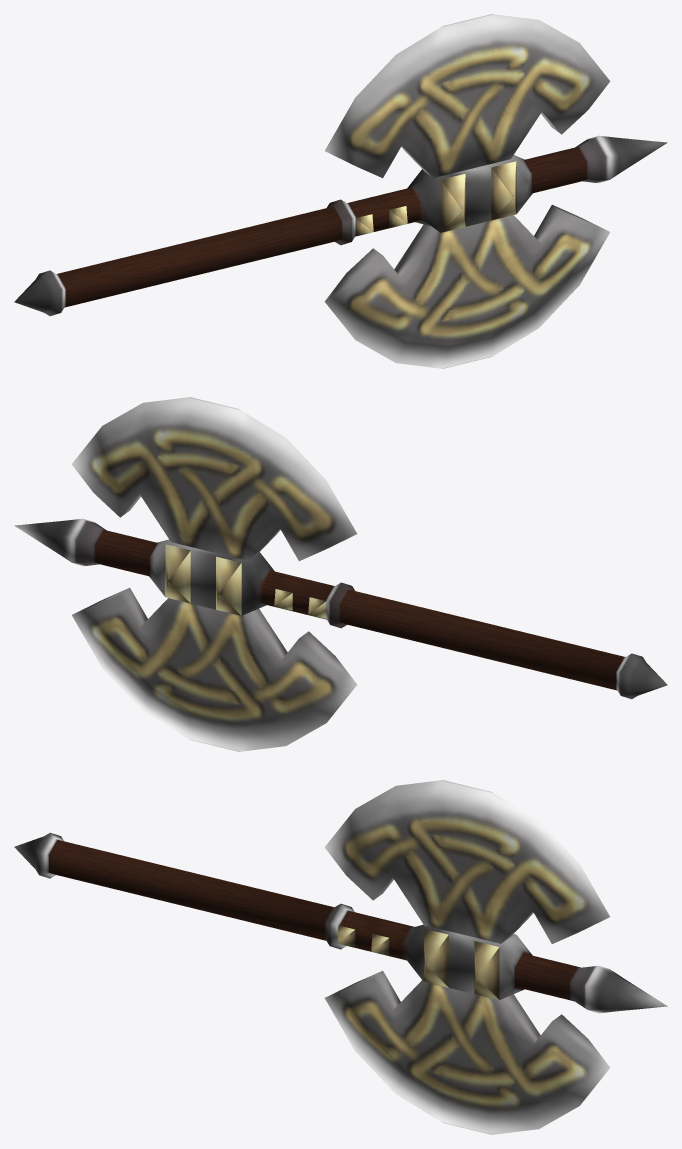
3 views of the same model, one above another, from view 1: azimuth 30°, elevation 25°; view 2: azimuth 150°, elevation 25°; view 3: azimuth 330°, elevation 25° (orthographic).
Parts seen in each view (by area): view 1: IT181_DMSPRITEDEF_node; view 2: IT181_DMSPRITEDEF_node; view 3: IT181_DMSPRITEDEF_node.
Boxes of the visible parts, box(x1,y1,x2,y2) form: IT181_DMSPRITEDEF_node: box(14, 14, 667, 368); IT181_DMSPRITEDEF_node: box(14, 397, 667, 751); IT181_DMSPRITEDEF_node: box(14, 780, 667, 1134).
Bounding box in the file's own units: 3.25 × 1.63 × 0.3152.
Materials: 3 (3 with a texture image).
